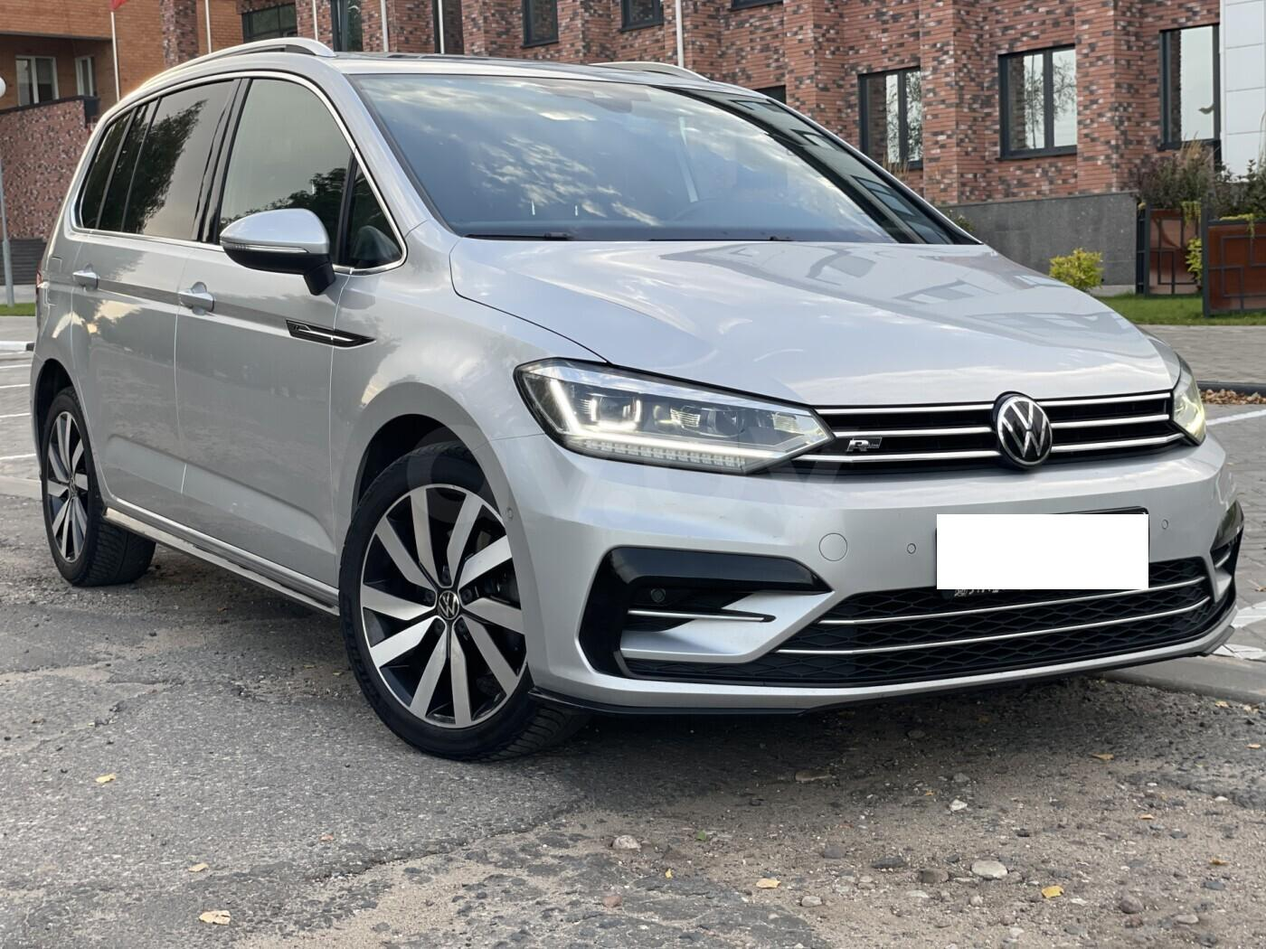Touran_2015: (19, 53, 1245, 766)
